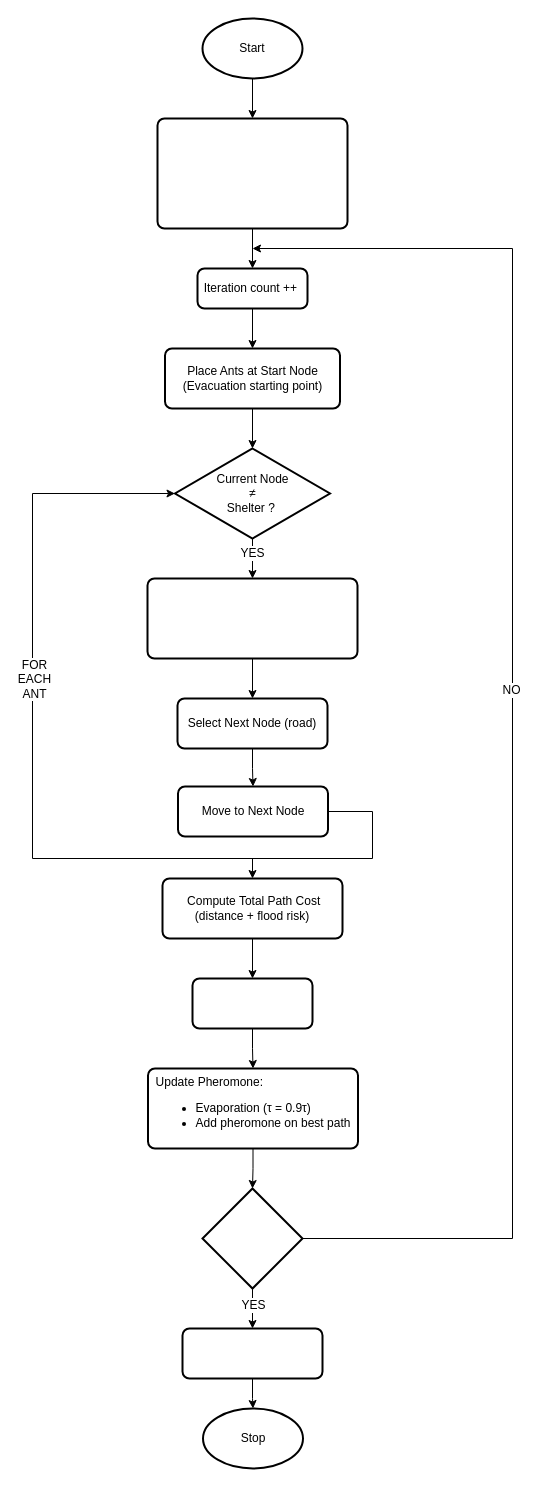
The diagram is 538 pixels wide and 1486 high, and some of its shapes have lost their labels. The shapes that lost their labels are listed below. From the top down, each one's centre as x and y in pixels, then its label:
the point at 252,173: Initialize: Road Network (Graph G) Pheromone τ Flood weights (PSO) Iteration = 0
the point at 252,618: Compute Probability: P ∝ (τ^α) × (1 / cost)^β cost = length + flood penalty
the point at 252,1003: Update Best Path (lowest flood risk)
the point at 252,1238: Iteration > Max ?
the point at 252,1353: Return Safest Route (Minimum Flood Score)
